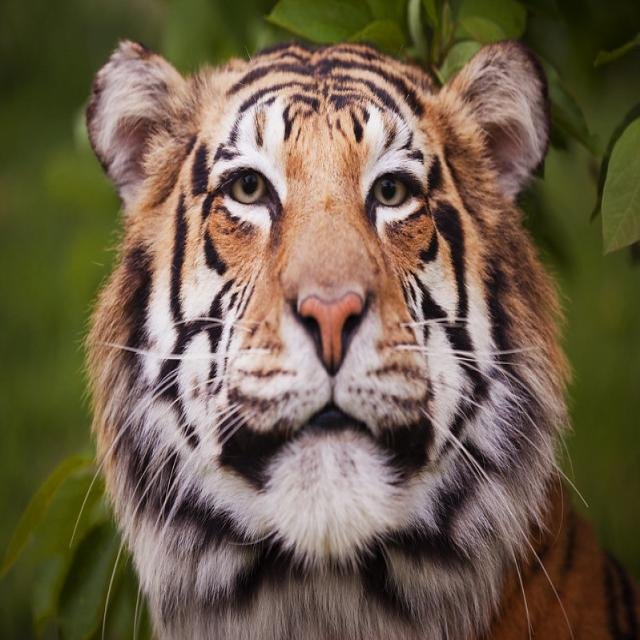Tiger: (81, 31, 577, 638)
